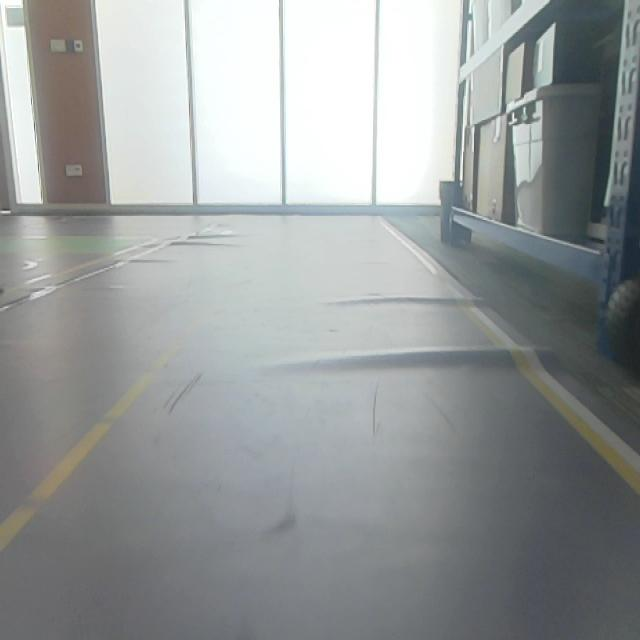left_lane: (0, 291, 223, 557)
right_lane: (381, 220, 640, 497)
